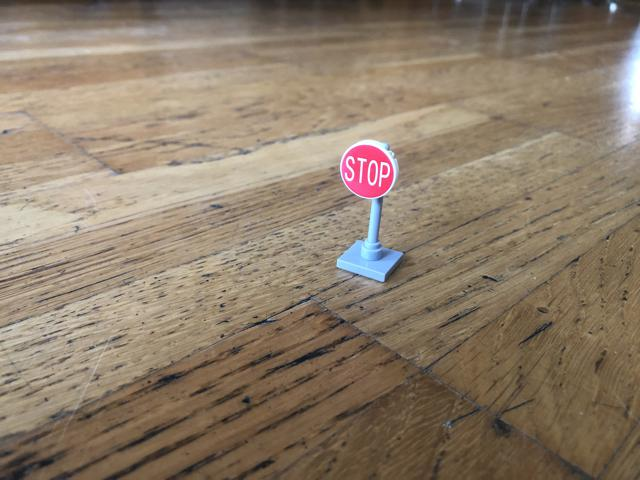stop: (340, 140, 398, 201)
